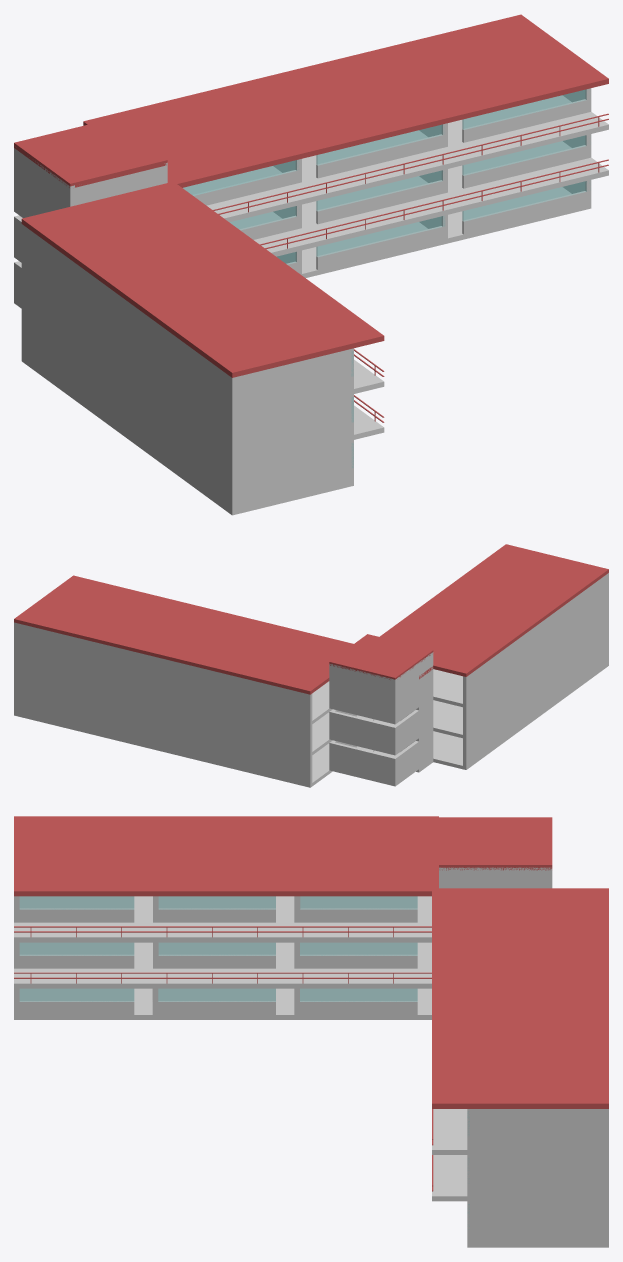
The model's file is Inteligente.fbx.
3 renders of one model, top to bottom at view 1: azimuth 30°, elevation 25°; view 2: azimuth 150°, elevation 25°; view 3: azimuth 270°, elevation 25°, orthographic. The views are drawn at different scales.
Visible parts, largest first — view 1: Edificio_PLM_Final; view 2: Edificio_PLM_Final; view 3: Edificio_PLM_Final.
Boxes of the visible parts, x1,y1,x2,y2 form: Edificio_PLM_Final: [14, 14, 608, 515]; Edificio_PLM_Final: [14, 544, 608, 787]; Edificio_PLM_Final: [14, 816, 608, 1247].
Bounding box in the file's own units: 4800 × 1300 × 4200.
